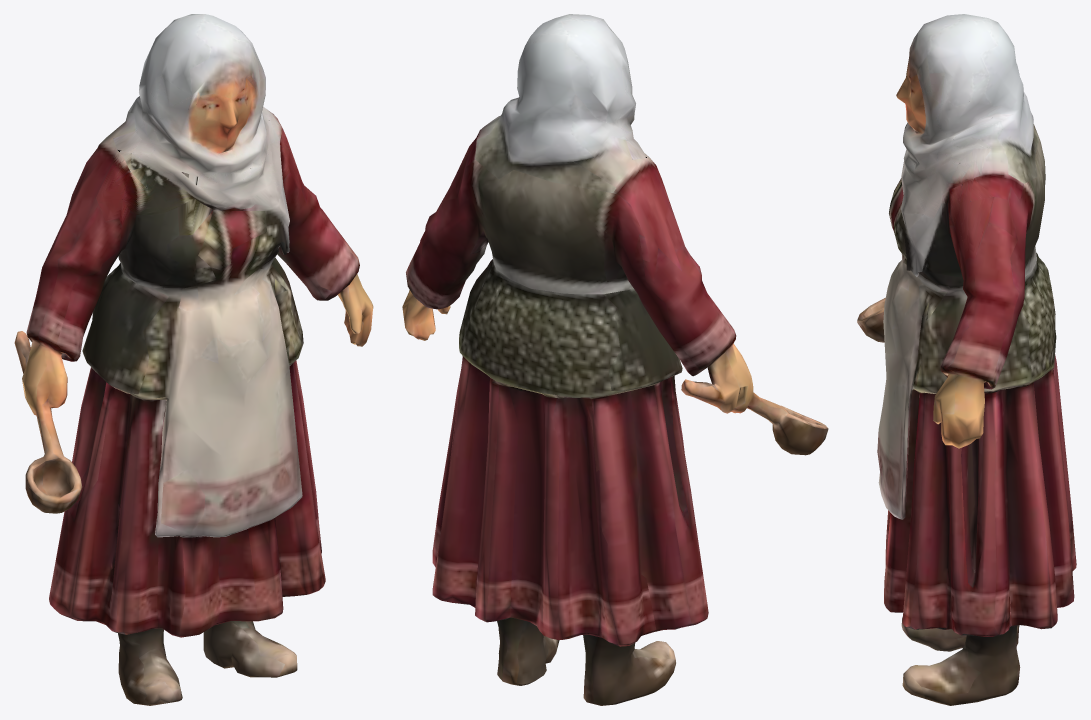
File: cook.gen.phone.glb
3 renders of one model, left to right at view 1: azimuth 30°, elevation 25°; view 2: azimuth 150°, elevation 25°; view 3: azimuth 270°, elevation 25°, orthographic.
Parts seen in each view (by area): view 1: cook.raw; view 2: cook.raw; view 3: cook.raw.
Part boxes in pixels (x1,y1,x2,y2): cook.raw: [14, 14, 373, 705]; cook.raw: [402, 14, 828, 705]; cook.raw: [857, 14, 1076, 705].
Size of the model in its own units: 1.06 by 1.75 by 0.5322.
Materials: 1 (1 with a texture image).
